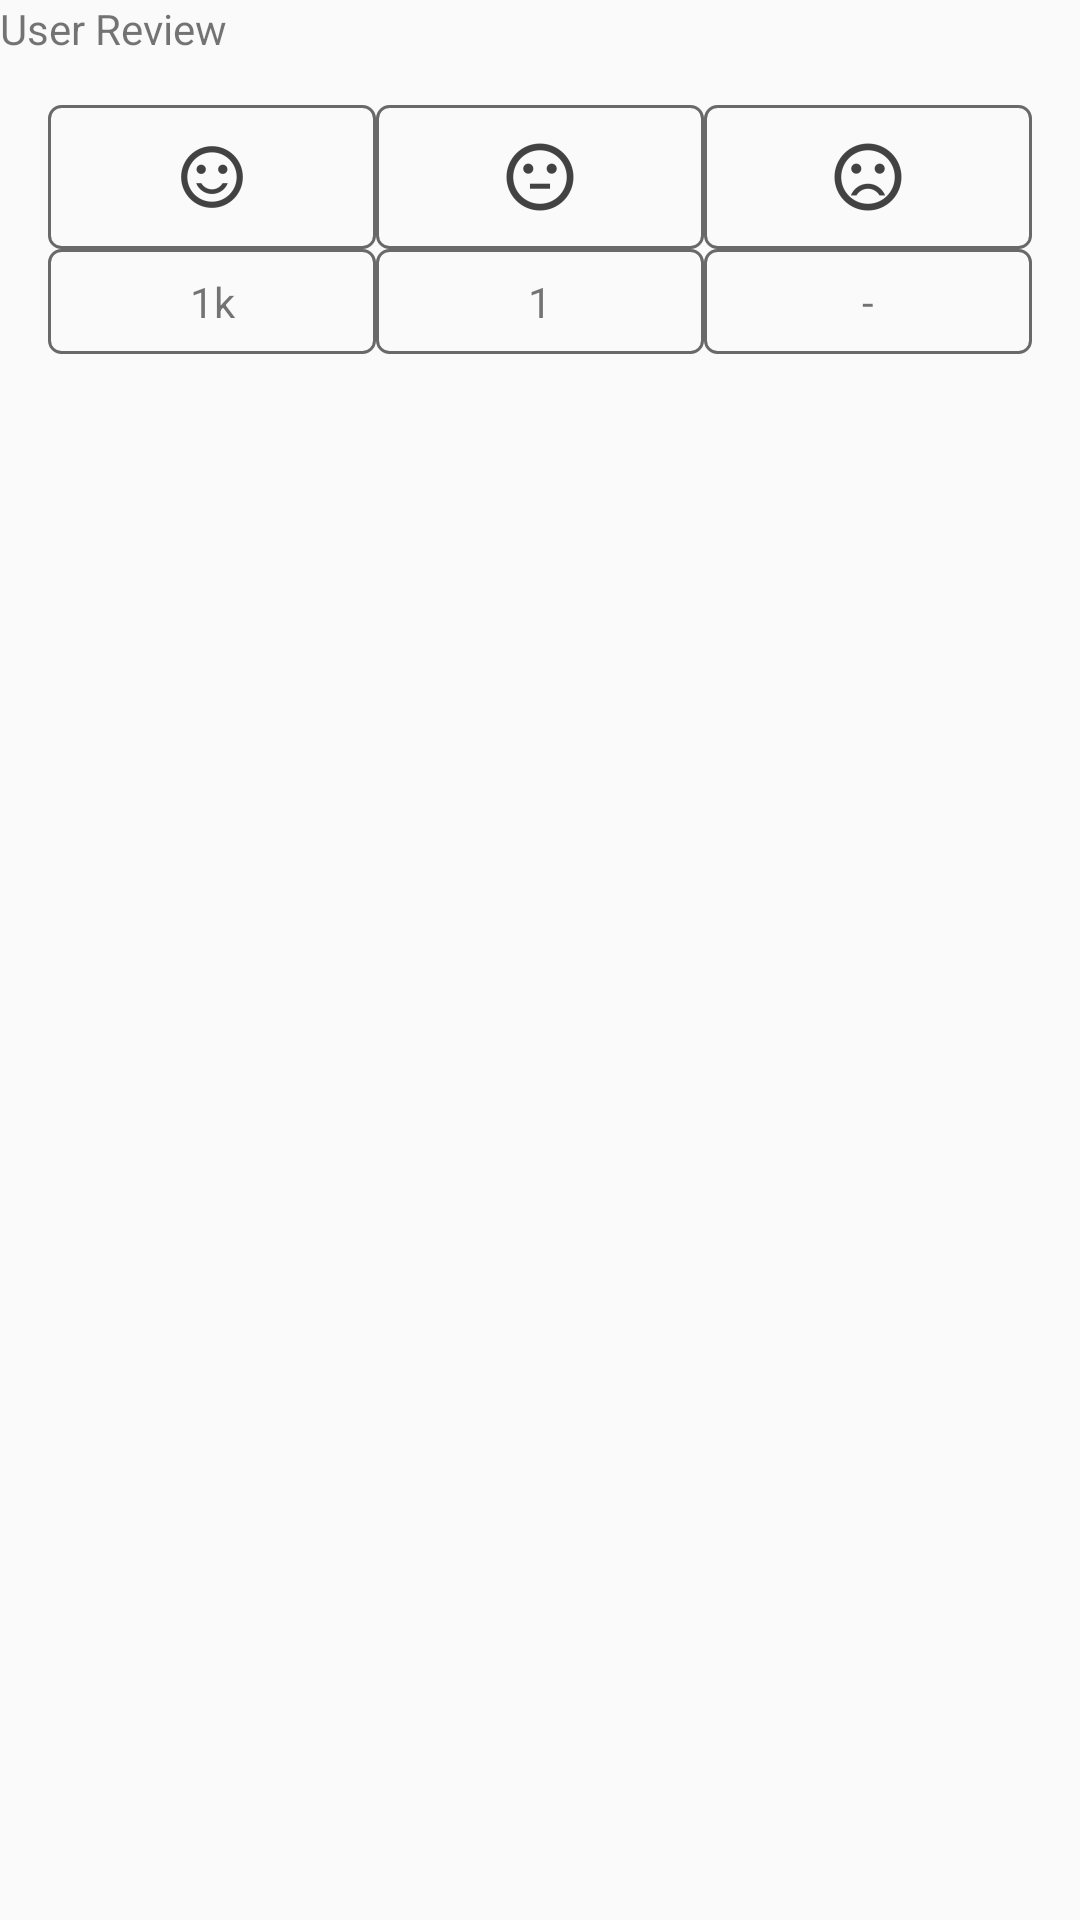

Icon bounding boxes for this 1080 × 1920 phone screenshot, format bbox(x1, y1, x2, y2):
neutral emoticon: bbox(379, 108, 701, 246)
sad emoticon: bbox(704, 105, 1032, 249)
smile emoticon: bbox(48, 105, 376, 249)
